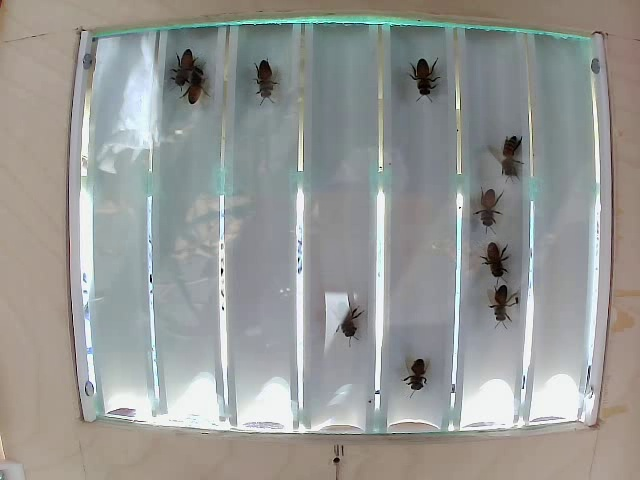bee: (395, 58, 441, 104), (471, 175, 511, 225), (485, 279, 522, 332), (501, 126, 536, 171), (323, 301, 363, 339), (250, 69, 289, 107), (480, 242, 512, 283), (401, 352, 434, 390), (170, 48, 202, 83), (183, 73, 213, 106)
